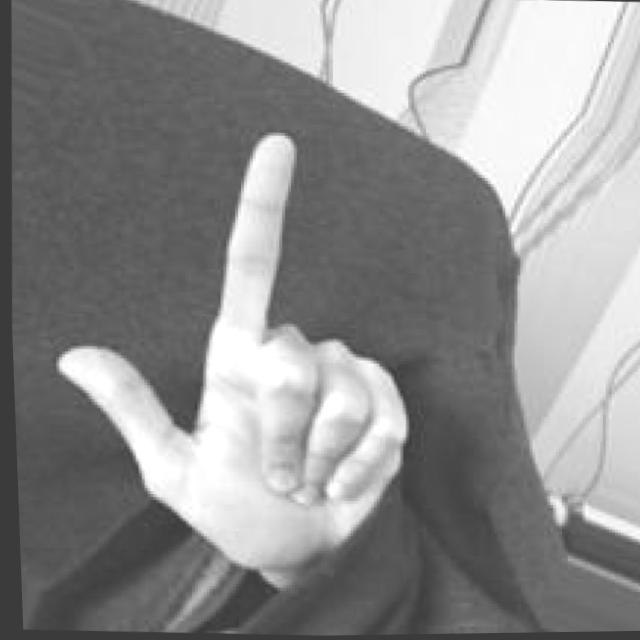L: (25, 113, 431, 592)
